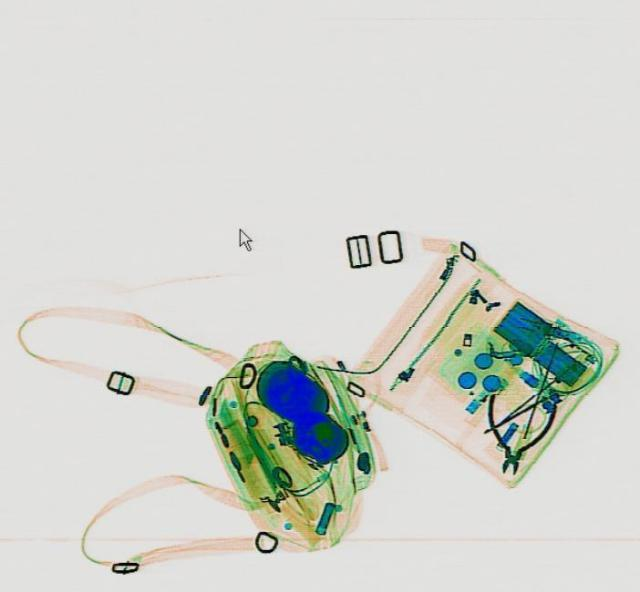Pliers: (473, 387, 557, 476)
